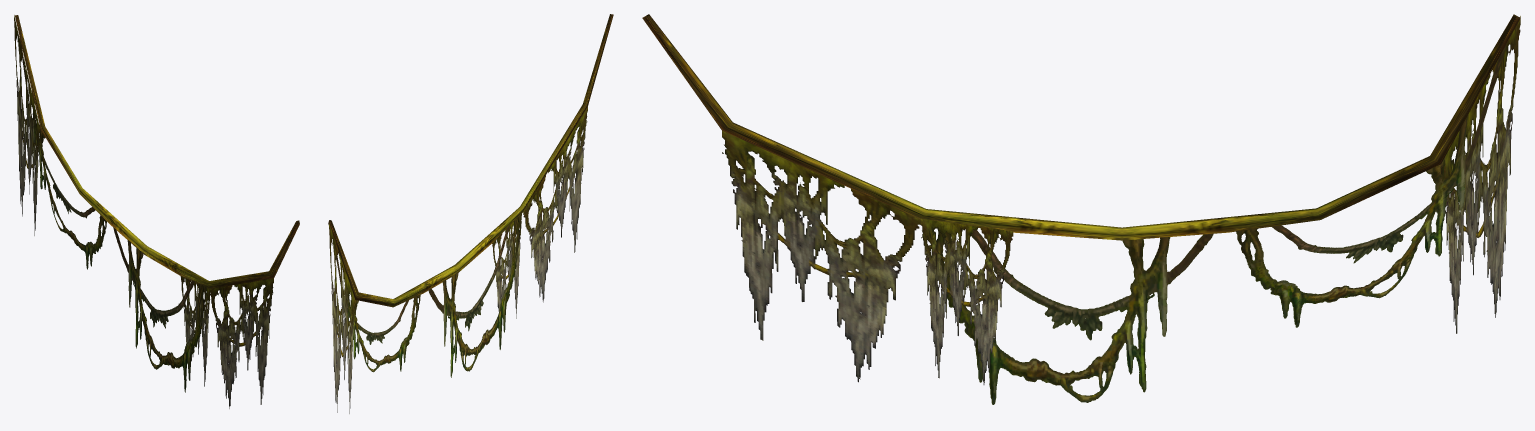
Rendered from swamphangingvines01.obj.
The picture shows the model from 3 angles, left to right: view 1: azimuth 30°, elevation 25°; view 2: azimuth 150°, elevation 25°; view 3: azimuth 270°, elevation 25°; orthographic projection. The views are drawn at different scales.
Visible parts, largest first — view 1: Geoset2, Geoset1, Geoset0; view 2: Geoset2, Geoset1, Geoset0; view 3: Geoset2, Geoset1, Geoset0.
Boxes of the visible parts, x1,y1,x2,y2 form: Geoset2: [14, 15, 273, 408]; Geoset1: [19, 36, 206, 392]; Geoset0: [15, 15, 299, 288]; Geoset2: [329, 107, 587, 413]; Geoset1: [336, 213, 521, 377]; Geoset0: [328, 14, 613, 307]; Geoset2: [722, 16, 1520, 384]; Geoset1: [933, 44, 1506, 404]; Geoset0: [642, 14, 1520, 240].
Size of the model in its own units: 0.4802 by 25.35 by 50.23.
3 materials, 3 textured.
